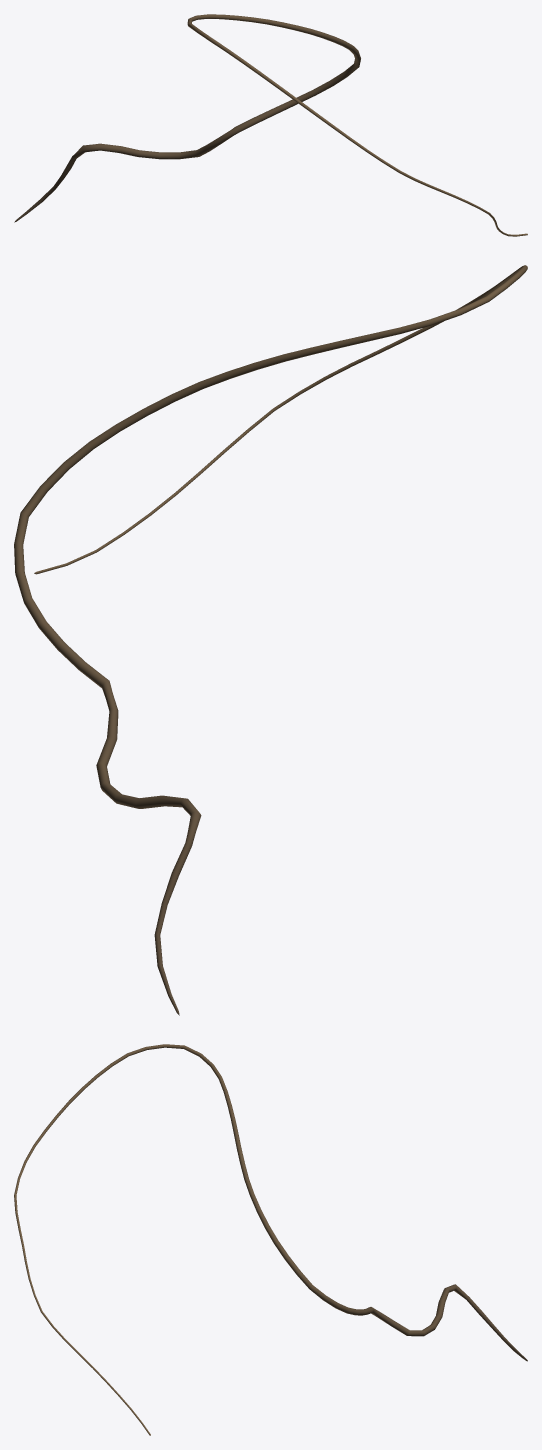
File: microscopic-dust-particles-hair-strand_v6.glb
3 views of the same model, one above another, from view 1: azimuth 30°, elevation 25°; view 2: azimuth 150°, elevation 25°; view 3: azimuth 270°, elevation 25° (orthographic). The views are drawn at different scales.
Parts seen in each view (by area): view 1: Hair Strand_v6; view 2: Hair Strand_v6; view 3: Hair Strand_v6.
Boxes of the visible parts, x1,y1,x2,y2 form: Hair Strand_v6: (14, 14, 527, 236); Hair Strand_v6: (14, 265, 527, 1015); Hair Strand_v6: (14, 1044, 527, 1435).
Size of the model in its own units: 0.3274 by 0.3331 by 0.5.
